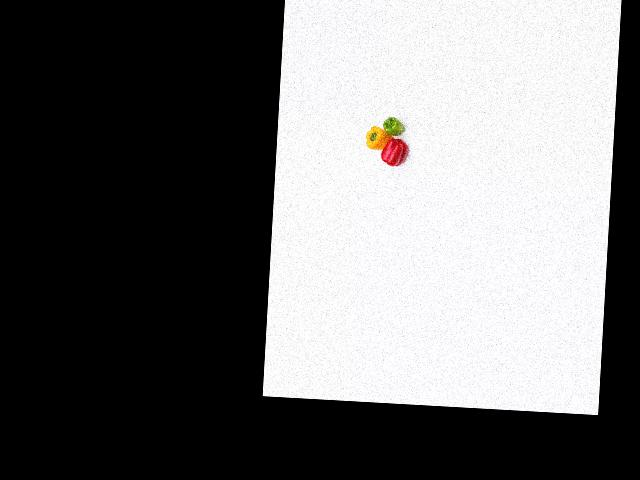bell_pepper: (380, 111, 406, 137)
